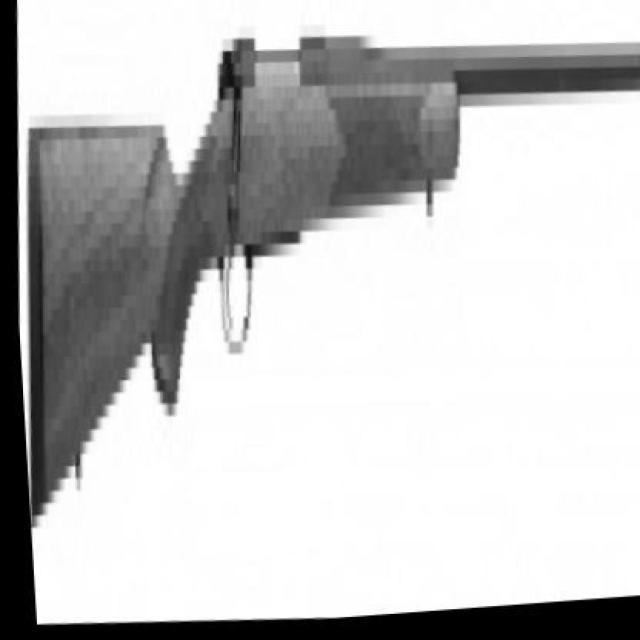weapon: (29, 30, 640, 528)
